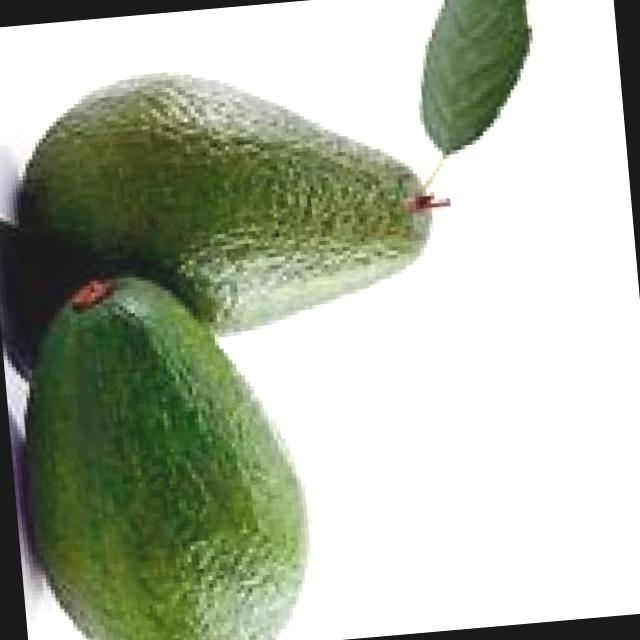avocado: (0, 42, 448, 356), (7, 260, 321, 640)
